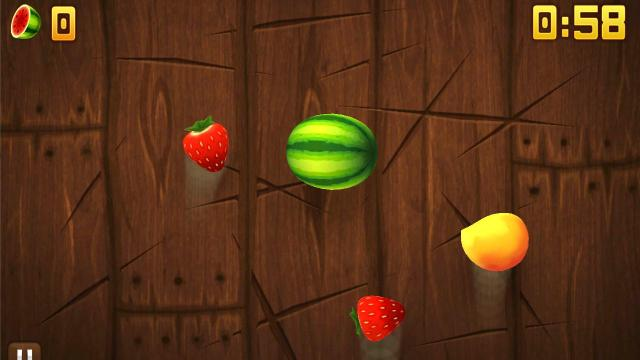fruit: (286, 113, 378, 189), (458, 212, 530, 273), (182, 115, 230, 174), (351, 296, 404, 340)
